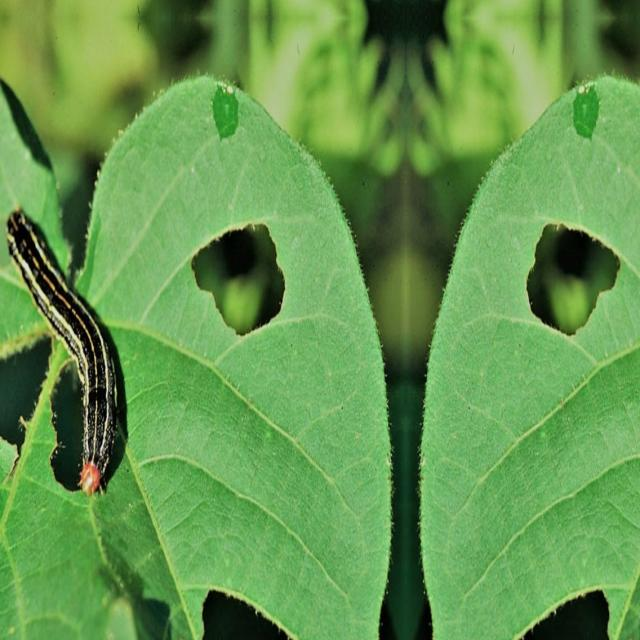armyworm: (4, 206, 118, 497)
